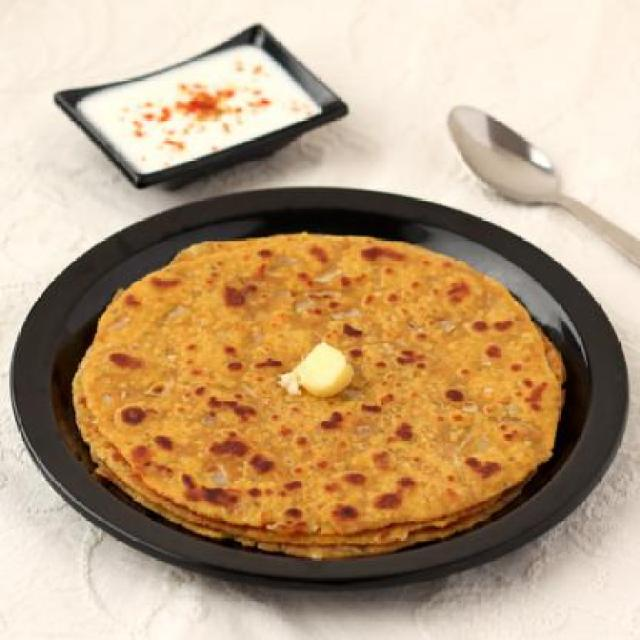chapati: (80, 233, 558, 535)
